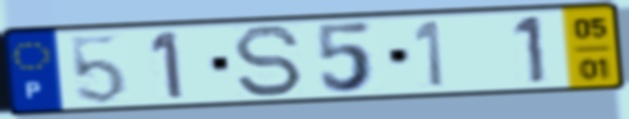1: (146, 29, 190, 102), (510, 13, 549, 87), (410, 18, 447, 89)
5: (315, 19, 383, 96), (67, 32, 132, 104)
S: (229, 23, 305, 100)
